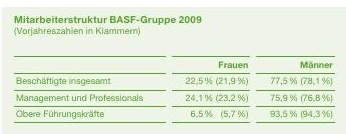table: (0, 0, 346, 134)
